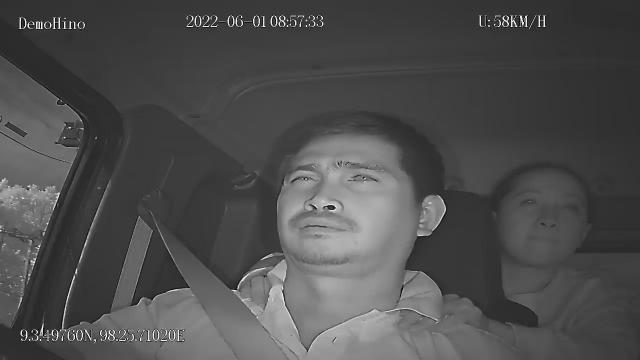SafeDriving: (338, 166, 386, 189), (284, 166, 324, 188)
Seatbelt: (128, 184, 294, 360)
